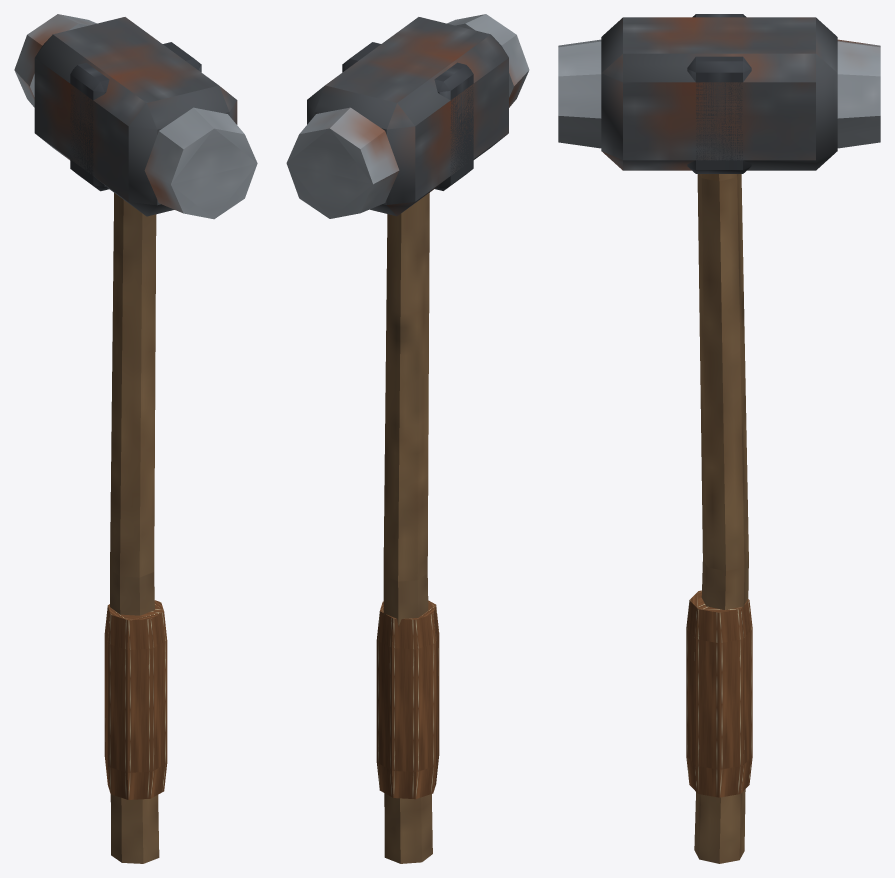
The model's file is SM_Sledgehammer.fbx.
The picture shows the model from 3 angles, left to right: view 1: azimuth 30°, elevation 25°; view 2: azimuth 150°, elevation 25°; view 3: azimuth 270°, elevation 25°; orthographic projection. The views are drawn at different scales.
Parts seen in each view (by area): view 1: SM_Sledgehammer; view 2: SM_Sledgehammer; view 3: SM_Sledgehammer.
Boxes of the visible parts, x1,y1,x2,y2 form: SM_Sledgehammer: [14, 14, 257, 863]; SM_Sledgehammer: [286, 14, 529, 863]; SM_Sledgehammer: [558, 14, 880, 863].
Size of the model in its own units: 0.6 by 4.2 by 1.5.
Materials: 1 (1 with a texture image).
